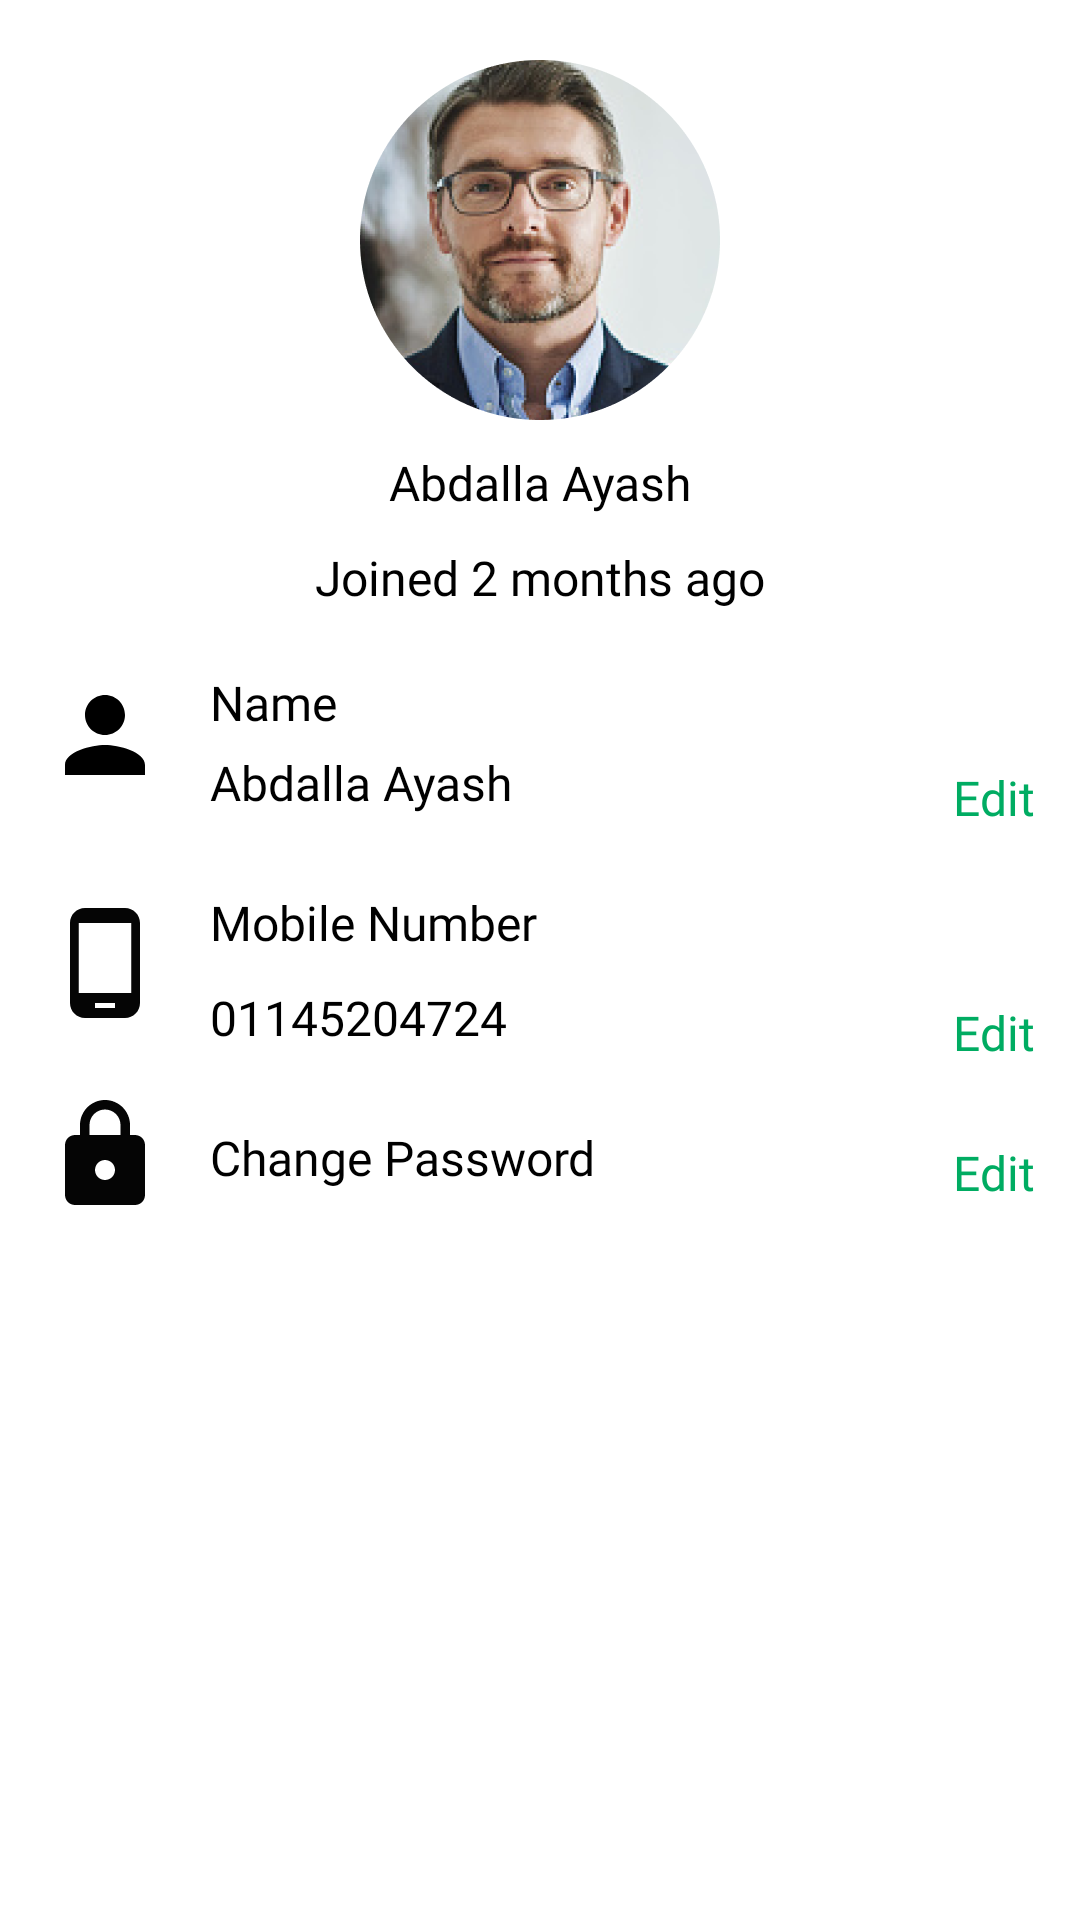

Locate icon controls on the screen. Image size 1080 × 1920, boxes as bbox(x1, y1, x2, y2).
lock: bbox(65, 1100, 145, 1205)
person: bbox(65, 695, 145, 775)
phone android: bbox(70, 908, 140, 1018)
profile: bbox(360, 60, 720, 420)
